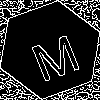M: (25, 25, 83, 83)
